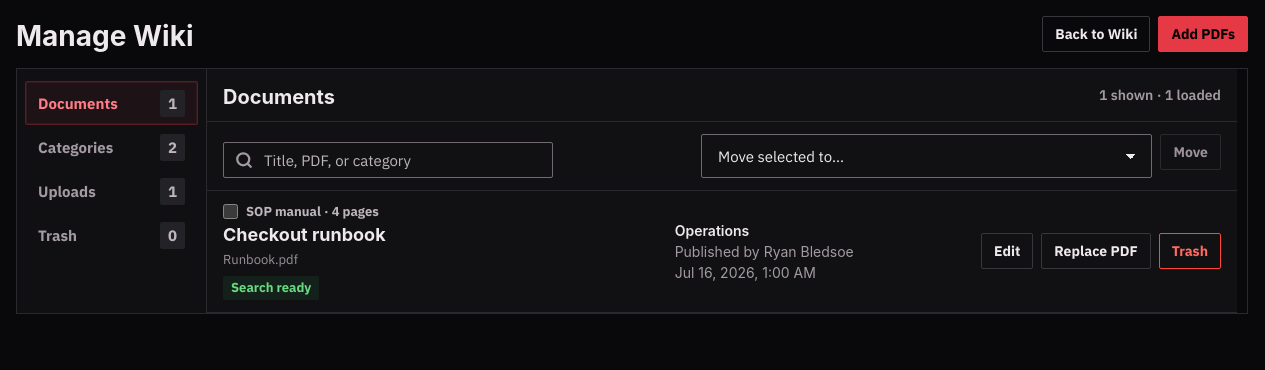
Test: KnowledgeManagementWorkspace › closes an upload discard confirmation when leaving the section
Click the button "Uploads 1" at (112, 191), box top-left (25, 169), bottom-right (198, 213)
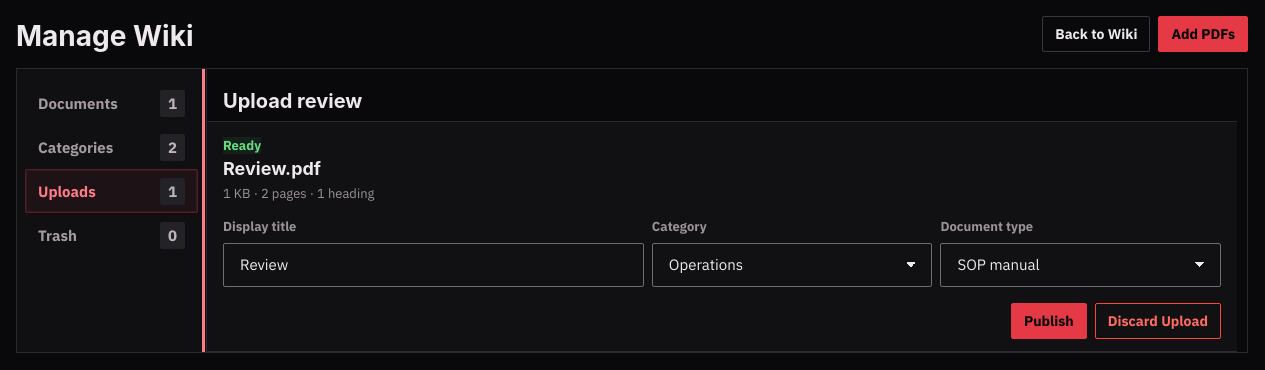
Click the button with aria-label "Discard Review.pdf" at (1158, 321), box top-left (1095, 303), bottom-right (1221, 339)
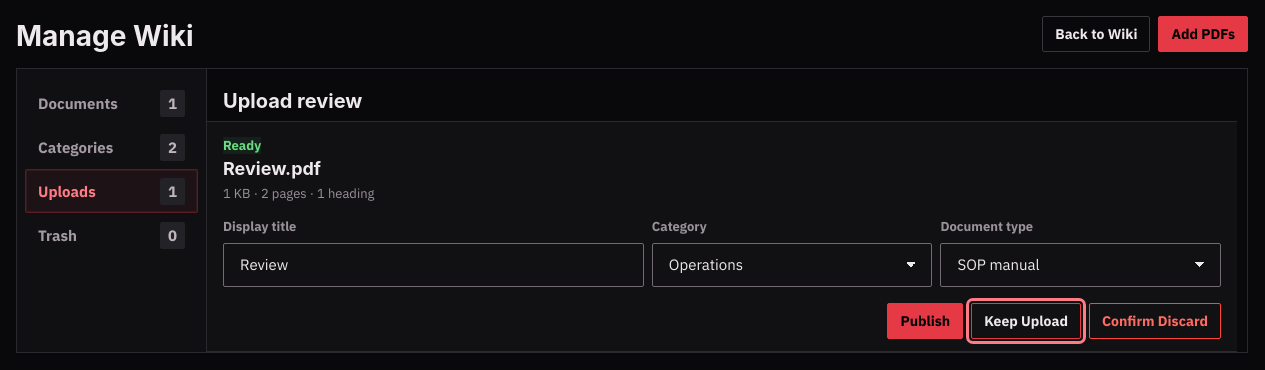
Expected: the button with aria-label "Confirm Discard Review.pdf" is shown, top-left (1089, 303), bottom-right (1221, 339)
Click the button "Documents 1" at (112, 103), box top-left (25, 81), bottom-right (198, 125)
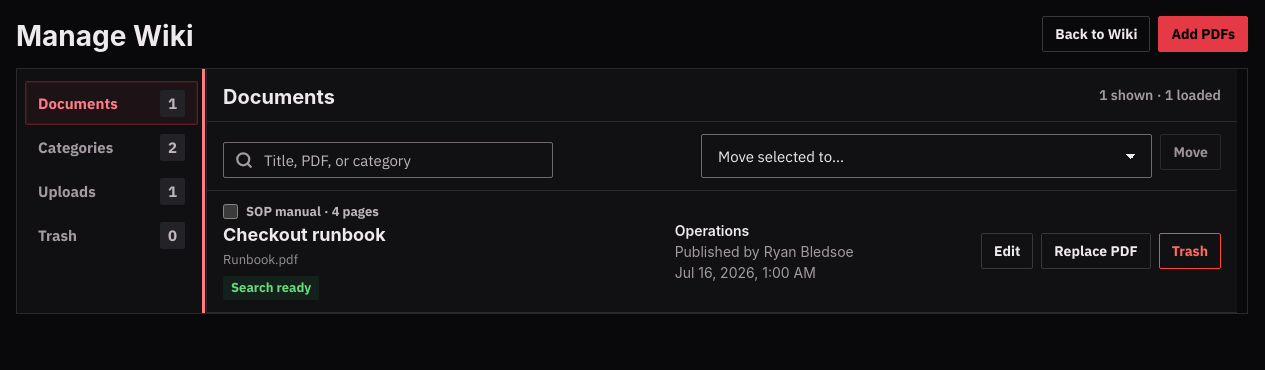
Click the button "Uploads 1" at (112, 191), box top-left (25, 169), bottom-right (198, 213)
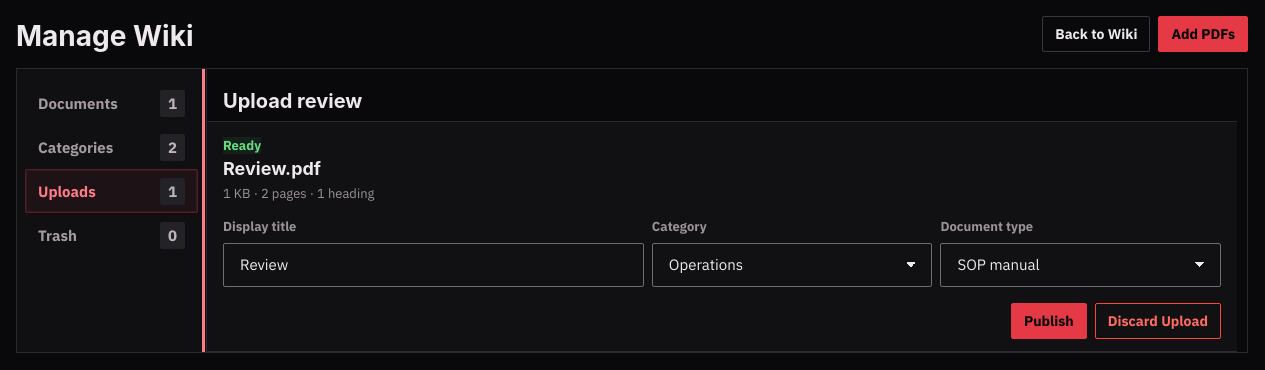
Expected: the button with aria-label "Discard Review.pdf" is shown, top-left (1095, 303), bottom-right (1221, 339)
